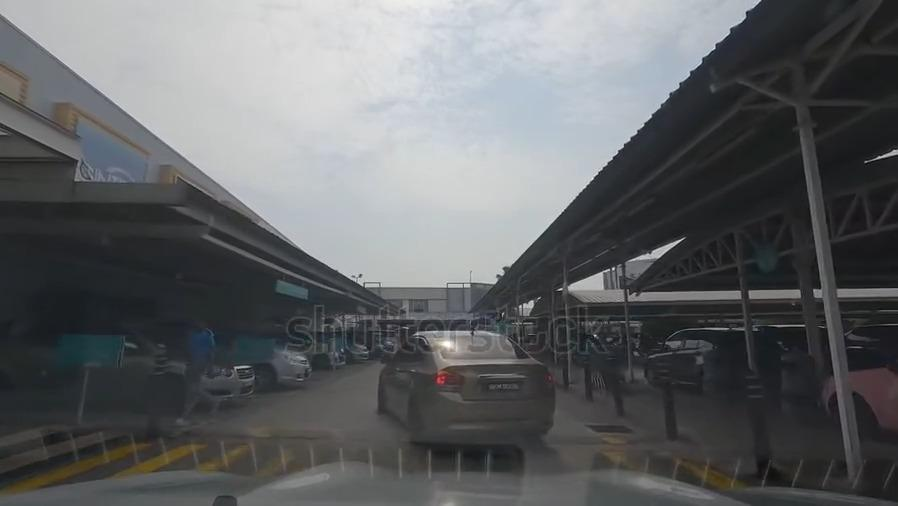car: (371, 335, 544, 449), (3, 329, 259, 402), (648, 330, 783, 391), (211, 331, 314, 389), (825, 362, 898, 433), (270, 335, 345, 369), (345, 340, 368, 367)
manhole: (587, 421, 634, 436)
pedestrian: (2, 449, 737, 492)
person: (186, 315, 209, 409)
speedbump: (182, 424, 655, 441)
wheel: (153, 374, 183, 410), (259, 363, 279, 389), (409, 399, 419, 447), (375, 375, 385, 413), (313, 351, 331, 371)
